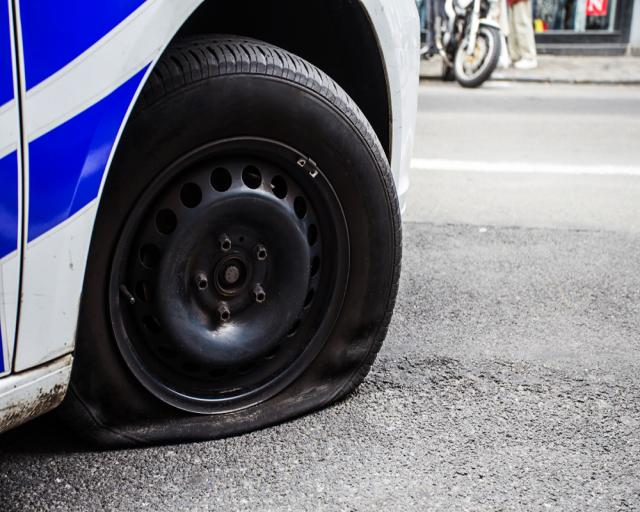tire flat: (78, 39, 409, 447)
